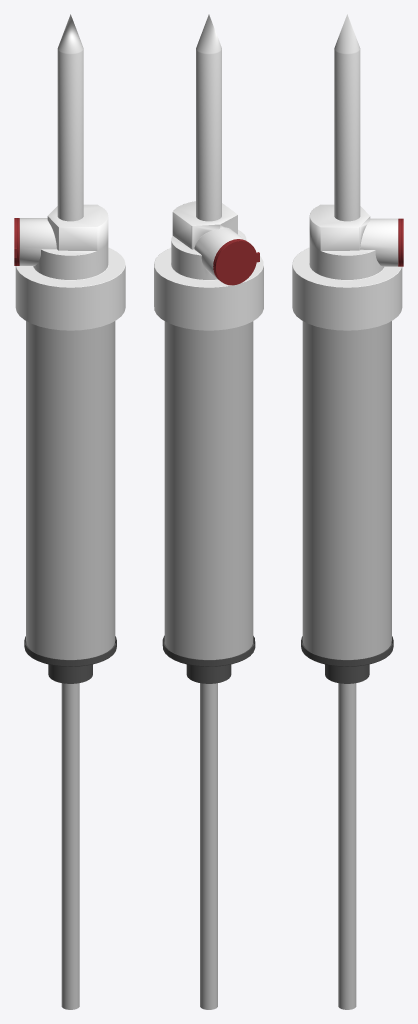
Rendered from infusion drip chamber.fbx.
3 renders of one model, left to right at view 1: azimuth 90°, elevation 25°; view 2: azimuth 210°, elevation 25°; view 3: azimuth 270°, elevation 25°, orthographic.
Parts seen in each view (by area): view 1: TUBE, TOP; view 2: TUBE, TOP; view 3: TUBE, TOP.
Boxes of the visible parts, x1,y1,x2,y2 form: TUBE: (26, 321, 115, 1009); TOP: (14, 14, 125, 683); TUBE: (164, 321, 253, 1009); TOP: (154, 14, 263, 683); TUBE: (302, 321, 391, 1009); TOP: (292, 14, 403, 683).
Size of the model in its own units: 9.8 by 97.44 by 9.92.
